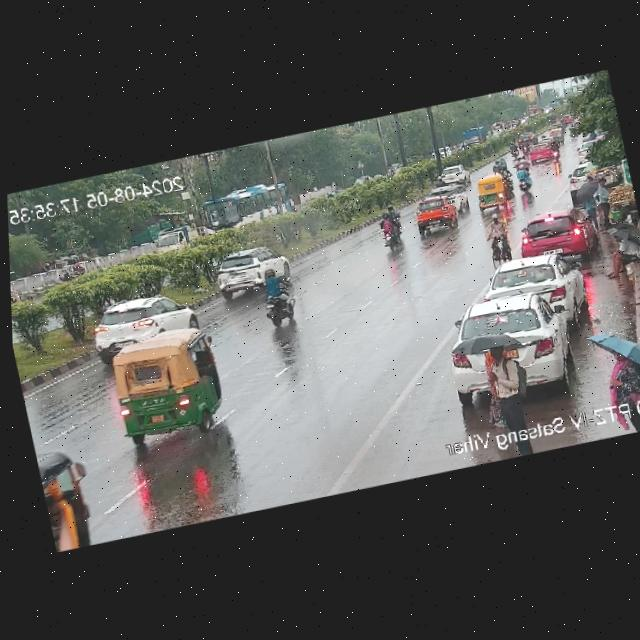bus: (197, 174, 301, 235)
car: (103, 320, 240, 453), (439, 284, 570, 382), (34, 435, 108, 551), (88, 288, 205, 359), (481, 246, 585, 325), (519, 202, 603, 268), (206, 241, 292, 298), (409, 193, 461, 236), (468, 172, 512, 212), (564, 160, 614, 190), (433, 163, 471, 189), (524, 142, 553, 164), (574, 137, 600, 161), (517, 131, 538, 147), (550, 127, 564, 145)
motorcycle: (250, 265, 305, 331), (482, 210, 514, 262), (511, 165, 538, 196), (376, 214, 397, 250), (382, 200, 401, 232), (492, 155, 508, 176), (68, 260, 85, 278), (505, 141, 519, 158), (512, 151, 528, 165), (550, 141, 561, 161), (519, 137, 530, 156)
person: (474, 336, 530, 425), (591, 223, 640, 285), (597, 338, 640, 404), (593, 172, 617, 226), (580, 189, 600, 223)
truck: (147, 220, 203, 255)
